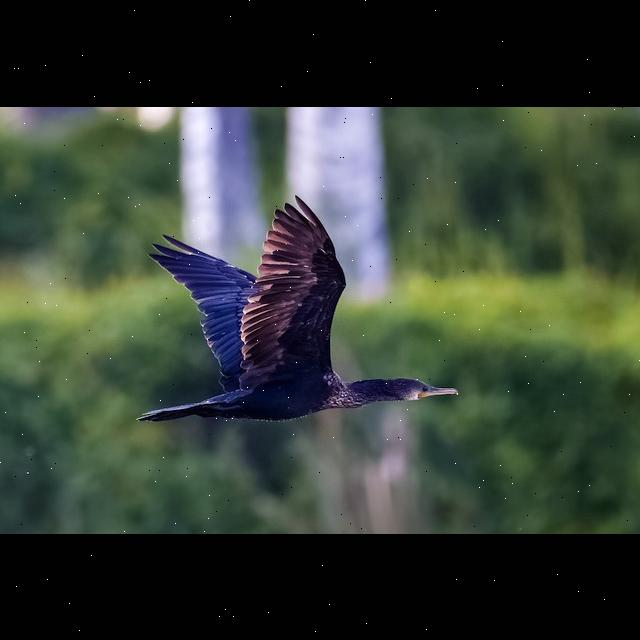cormorant: (134, 193, 462, 423)
